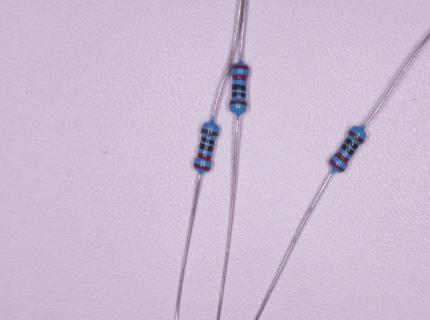Red band: (329, 158, 345, 172), (333, 151, 350, 164), (193, 162, 211, 171), (197, 152, 212, 161), (231, 75, 248, 82), (231, 65, 249, 71)
